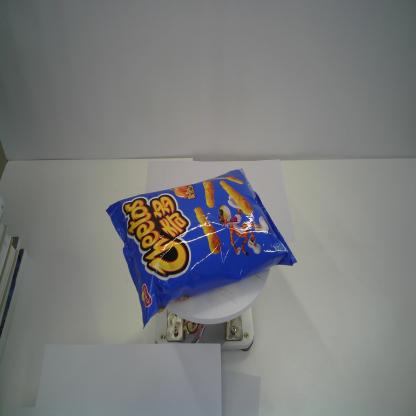Puffed Food: (104, 167, 299, 332)
